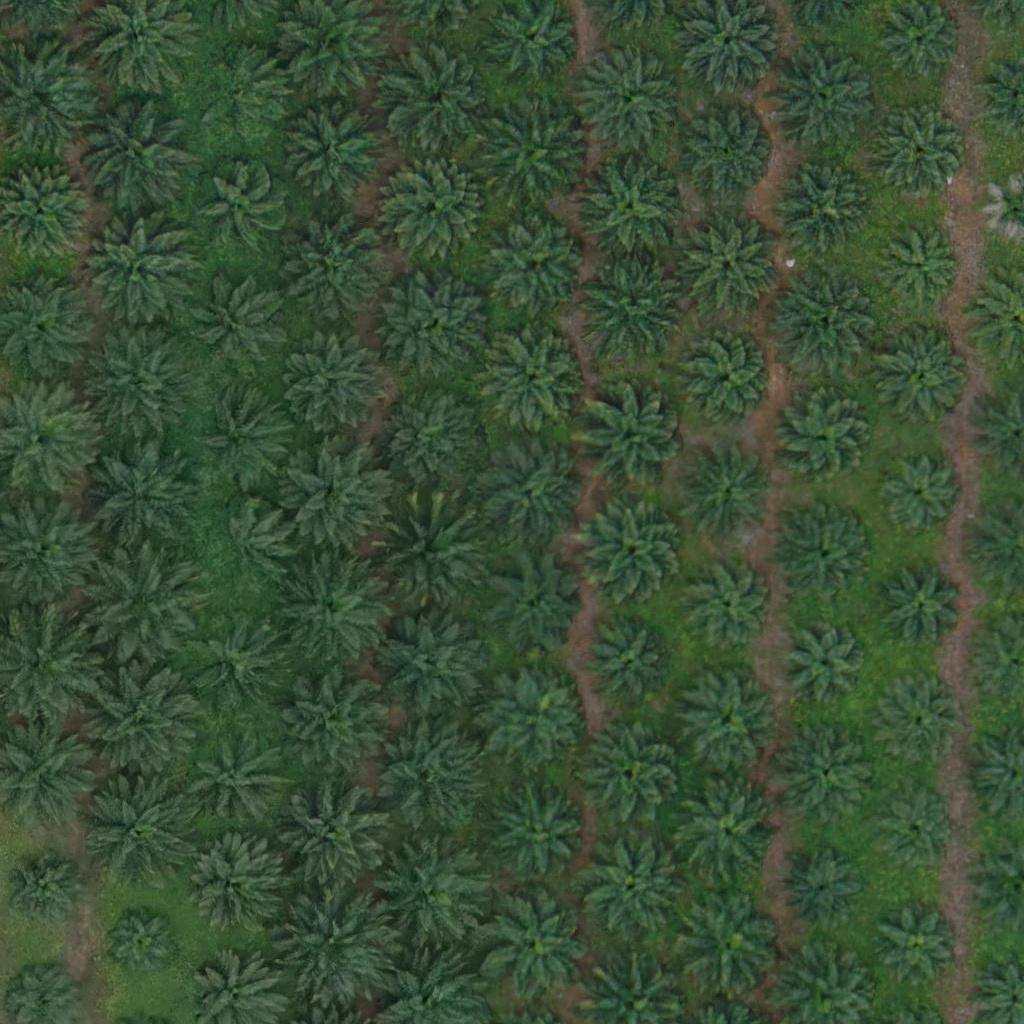Kelapa_Sawit: (481, 94, 594, 208), (573, 151, 686, 265), (581, 250, 694, 364), (81, 765, 194, 879), (77, 95, 190, 208), (81, 217, 194, 330), (279, 325, 392, 438), (768, 41, 881, 154), (575, 382, 688, 495), (577, 492, 690, 605), (376, 605, 489, 718), (372, 715, 485, 828), (281, 439, 394, 552), (272, 552, 385, 665), (278, 669, 391, 782), (280, 887, 393, 1000), (377, 835, 490, 948), (571, 44, 683, 158), (768, 266, 880, 380), (278, 780, 390, 894), (85, 546, 197, 660), (87, 663, 199, 777), (84, 325, 196, 438), (280, 96, 392, 209), (384, 45, 496, 158), (383, 269, 495, 382), (374, 385, 486, 498), (373, 500, 485, 613), (83, 440, 195, 553), (481, 889, 593, 1002), (576, 828, 688, 941), (288, 220, 388, 321), (386, 156, 486, 257), (488, 213, 588, 314), (774, 157, 874, 258), (779, 722, 879, 823), (677, 441, 777, 542), (678, 669, 778, 770), (678, 786, 778, 887), (582, 723, 682, 824), (481, 328, 581, 429), (478, 440, 578, 541), (487, 556, 587, 657), (488, 666, 588, 767), (485, 780, 585, 881), (193, 386, 293, 487), (181, 837, 281, 938), (678, 101, 778, 201), (680, 218, 780, 318), (874, 325, 974, 425), (773, 387, 873, 487), (777, 503, 877, 603), (677, 328, 777, 428), (185, 613, 285, 713), (189, 732, 289, 832), (679, 890, 779, 990), (877, 454, 965, 542), (586, 618, 674, 706), (202, 503, 290, 591), (201, 49, 288, 137), (196, 163, 283, 251), (197, 279, 284, 367), (875, 1, 962, 89), (878, 111, 965, 199), (784, 617, 871, 705), (686, 561, 773, 649), (1, 849, 88, 937), (884, 228, 959, 304), (886, 571, 961, 647), (884, 682, 959, 758), (787, 852, 862, 928), (881, 905, 956, 981), (876, 797, 951, 872), (103, 905, 178, 980)
